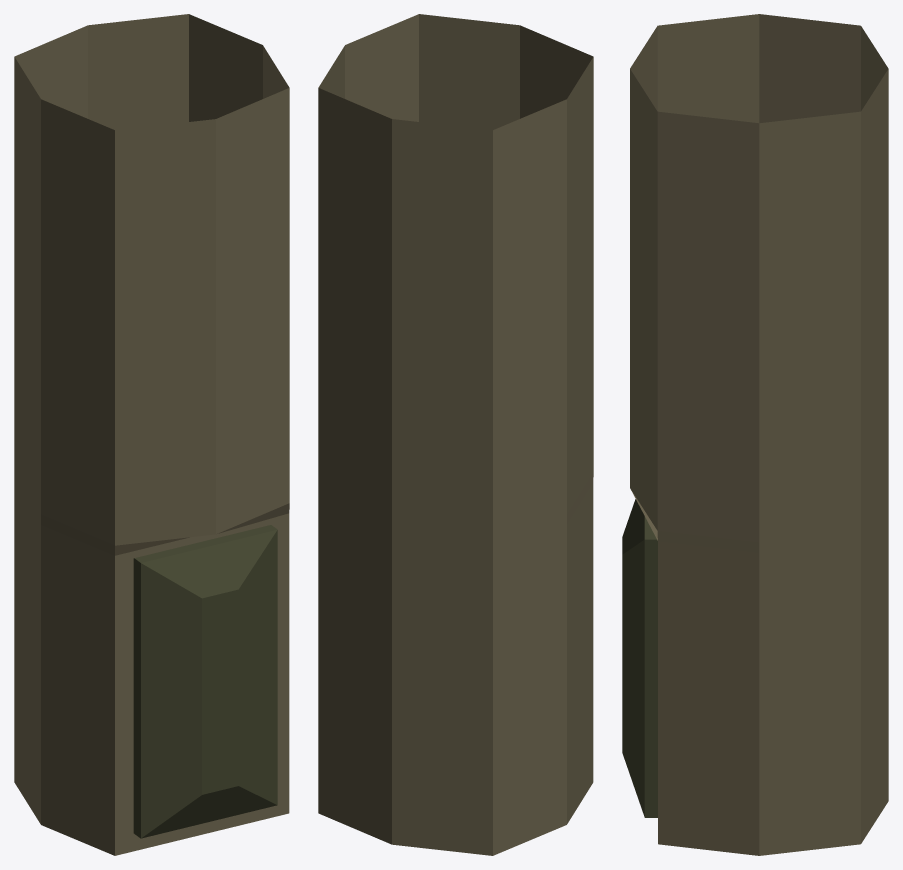
File: Exit.fbx
3 views of the same model, side by side, from view 1: azimuth 30°, elevation 25°; view 2: azimuth 150°, elevation 25°; view 3: azimuth 270°, elevation 25° (orthographic).
Parts seen in each view (by area): view 1: Corps, Door; view 2: Corps; view 3: Corps, Door.
Part boxes in pixels (x1,y1,x2,y2): Corps: (14, 14, 289, 855); Door: (133, 525, 277, 838); Corps: (318, 14, 593, 855); Corps: (630, 14, 888, 855); Door: (622, 499, 657, 817).
Bounding box in the file's own units: 593 × 1854 × 611.
